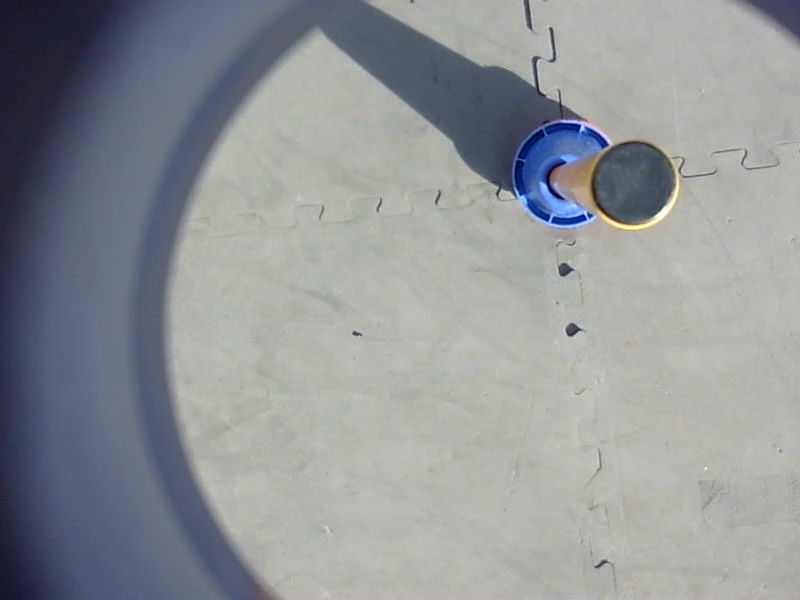tip: (584, 132, 686, 236)
